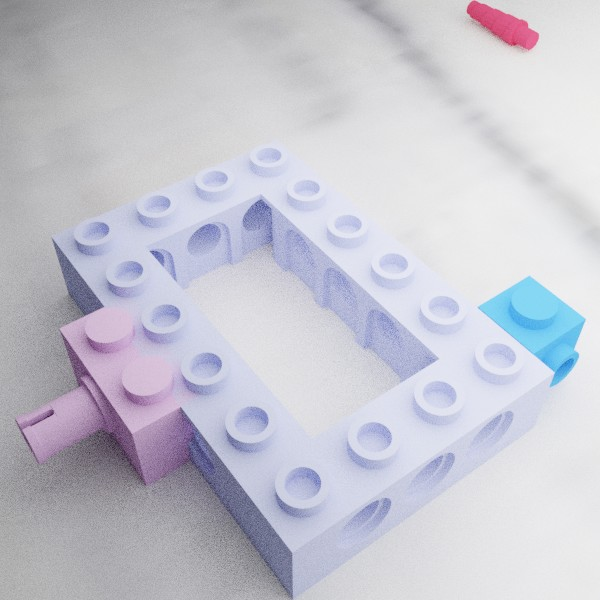lego: (51, 139, 554, 600), (14, 295, 213, 486), (464, 275, 586, 409), (466, 0, 539, 50)
